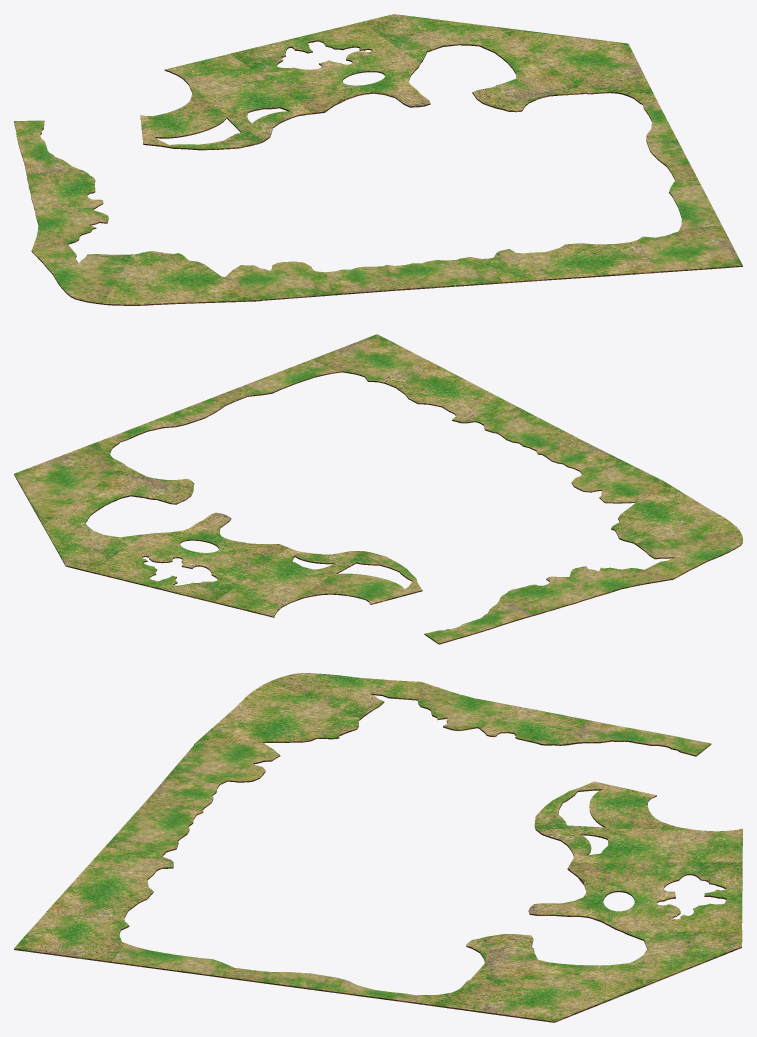
File: parque(terreno).fbx
3 views of the same model, one above another, from view 1: azimuth 30°, elevation 25°; view 2: azimuth 150°, elevation 25°; view 3: azimuth 270°, elevation 25° (orthographic). The views are drawn at different scales.
Parts seen in each view (by area): view 1: Plane.004; view 2: Plane.004; view 3: Plane.004.
Part boxes in pixels (box(x1,y1,x2,y2)): Plane.004: box(14, 14, 742, 305); Plane.004: box(14, 334, 742, 644); Plane.004: box(14, 673, 742, 1022).
Size of the model in its own units: 52002 by 96.2 by 45962.
